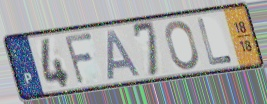4: (40, 36, 72, 90)
7: (130, 20, 161, 79)
A: (106, 28, 144, 82)
F: (63, 31, 96, 88)
L: (195, 17, 235, 67)
O: (164, 19, 201, 72)
